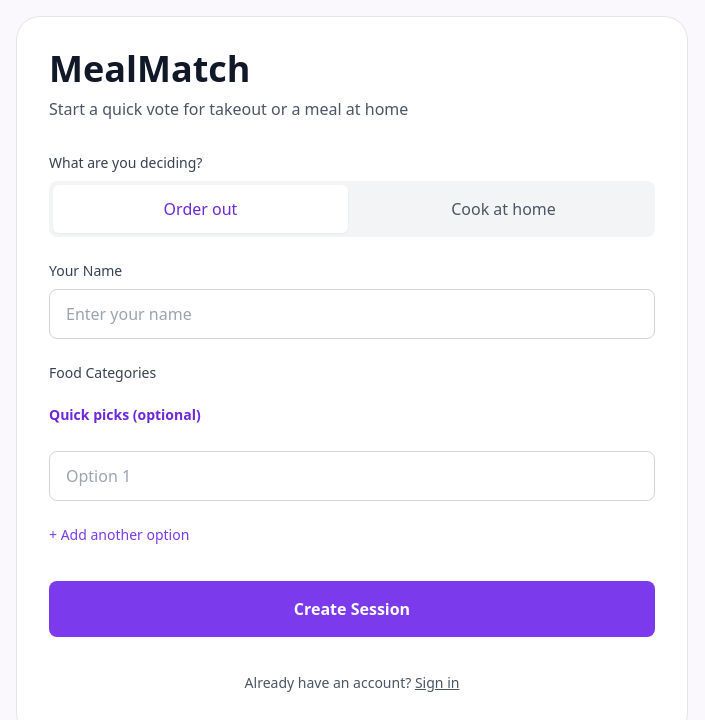
Scenario: QuickSession › should show error if name is empty
Step 1. Click the button "Create Session" → (352, 609), box [49,581,655,637]
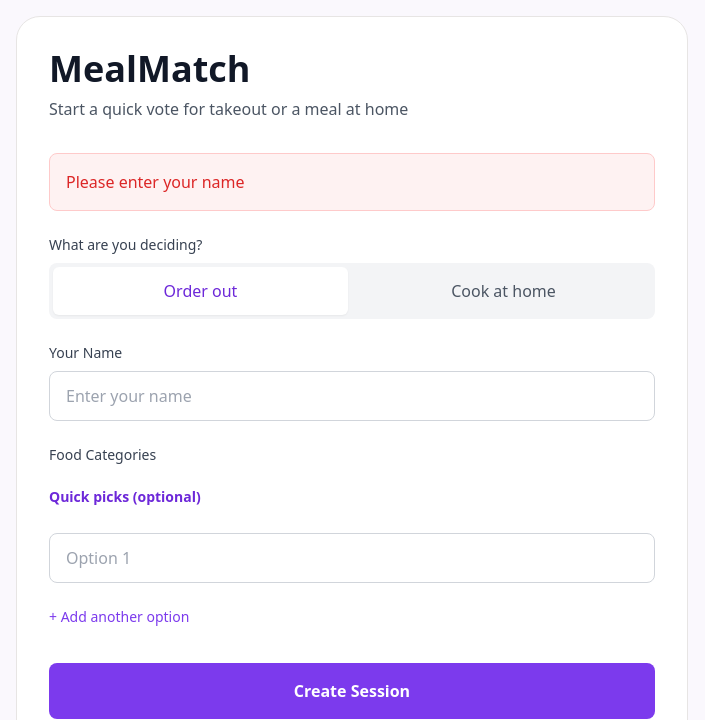
Expected: the text "Please enter your name" is shown, [49,153,655,211]
